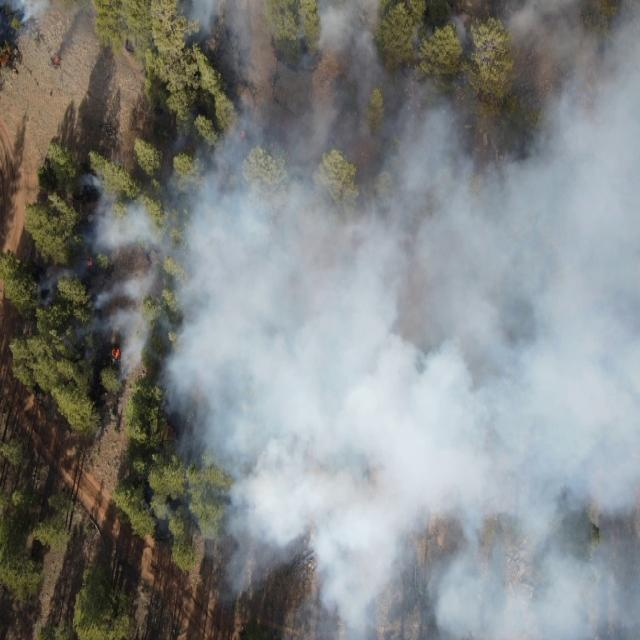fire: (0, 40, 15, 72), (110, 339, 125, 369), (82, 252, 96, 272), (53, 50, 64, 72), (236, 126, 248, 144)
smoke: (92, 168, 640, 464), (2, 0, 640, 95), (188, 468, 638, 562), (220, 91, 640, 182), (310, 560, 586, 640), (215, 566, 305, 596)
